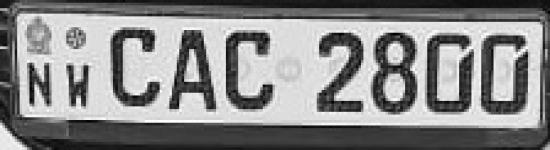0: (475, 27, 532, 124), (424, 27, 477, 119)
2: (314, 24, 368, 118)
8: (369, 26, 423, 118)
A: (164, 21, 220, 120)
C: (218, 27, 280, 117), (102, 22, 163, 110)
N: (25, 58, 60, 112)
W: (62, 58, 95, 115)
